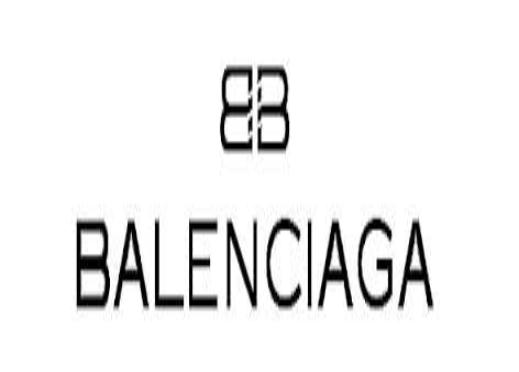BALENCIAGA: (72, 207, 434, 317), (216, 51, 293, 160)
